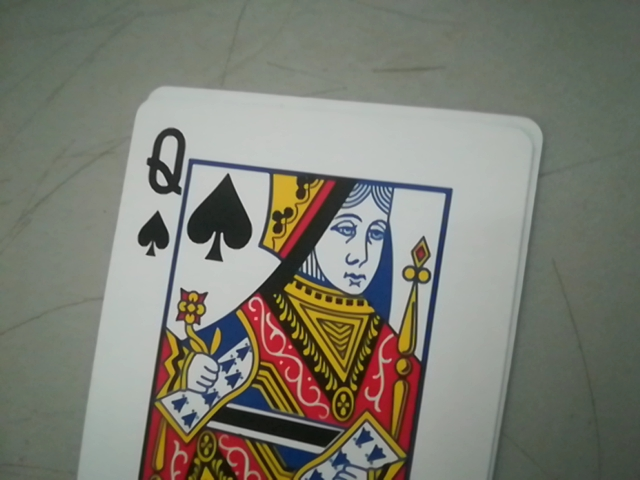ht q: (129, 108, 201, 253)
